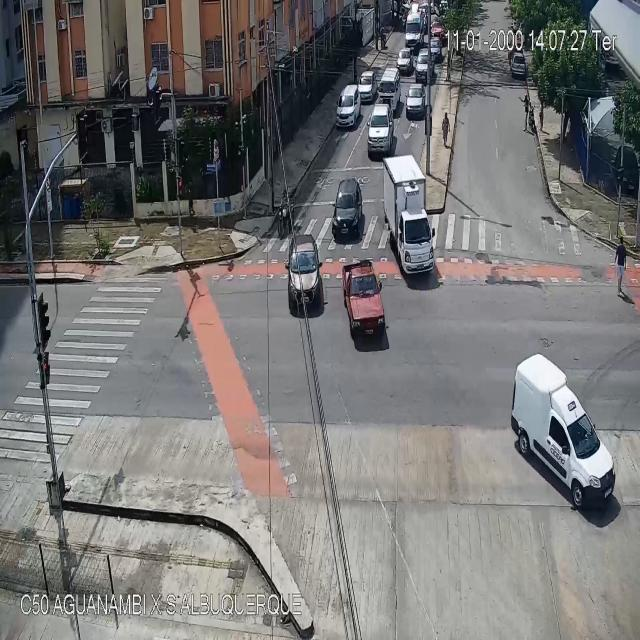Car: (511, 355, 616, 511), (342, 260, 387, 340), (286, 236, 322, 319), (329, 174, 366, 242), (366, 103, 393, 153), (336, 83, 361, 130), (380, 68, 401, 116), (414, 47, 434, 83), (406, 11, 428, 41), (406, 84, 423, 119), (359, 70, 376, 102), (512, 52, 526, 74), (397, 49, 408, 68)
Motorcycle: (278, 187, 294, 243)
Truck: (382, 155, 437, 277)
